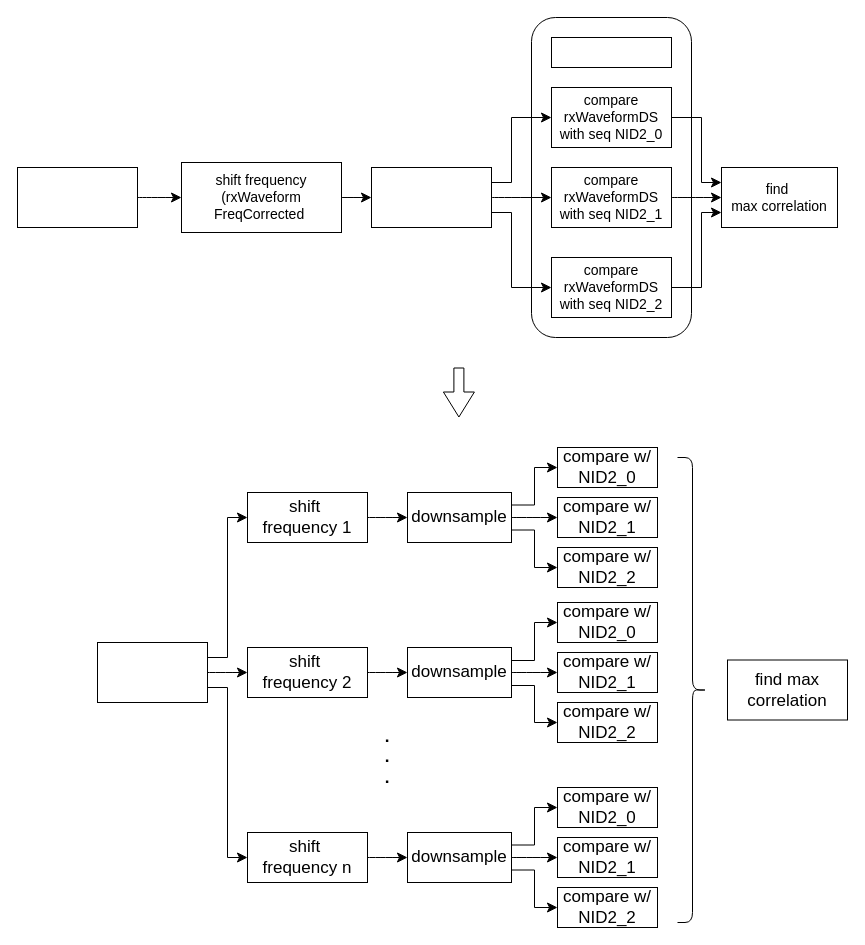
Some shapes in this 865 by 945 pixel diagram are drawn without their labels. The centre of each missing label's shape, as x and y in pixels:
"downsample (rxWaveformDS )" goes at point 431,197.
"load PSS seq" goes at point 611,52.
"recieve rxWaveform from srsRAN" goes at point 77,197.
"rxWaveform" goes at point 152,672.
